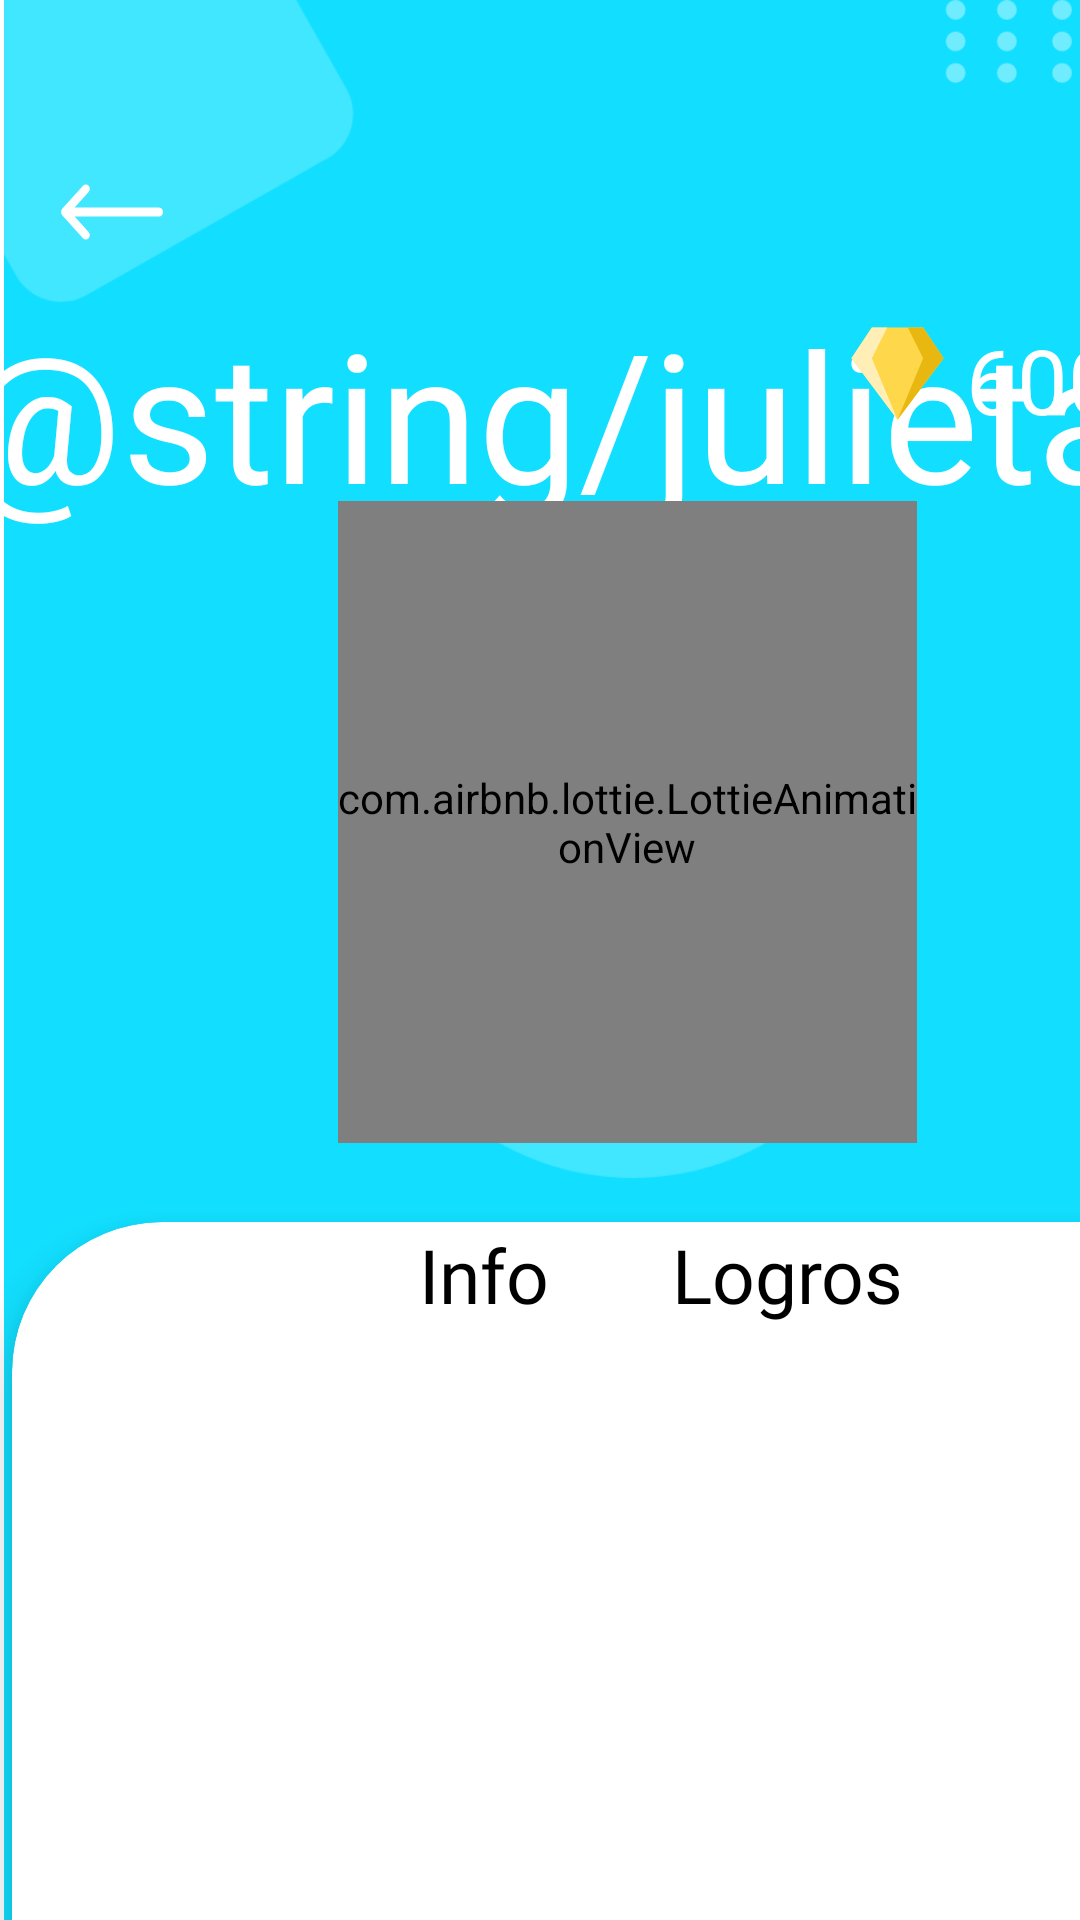

Named icons in this screenshot (1080w x 1920h) and their bounding boxes, bbox=(x1, y1, x2, y2):
points: bbox=(851, 327, 960, 435)
